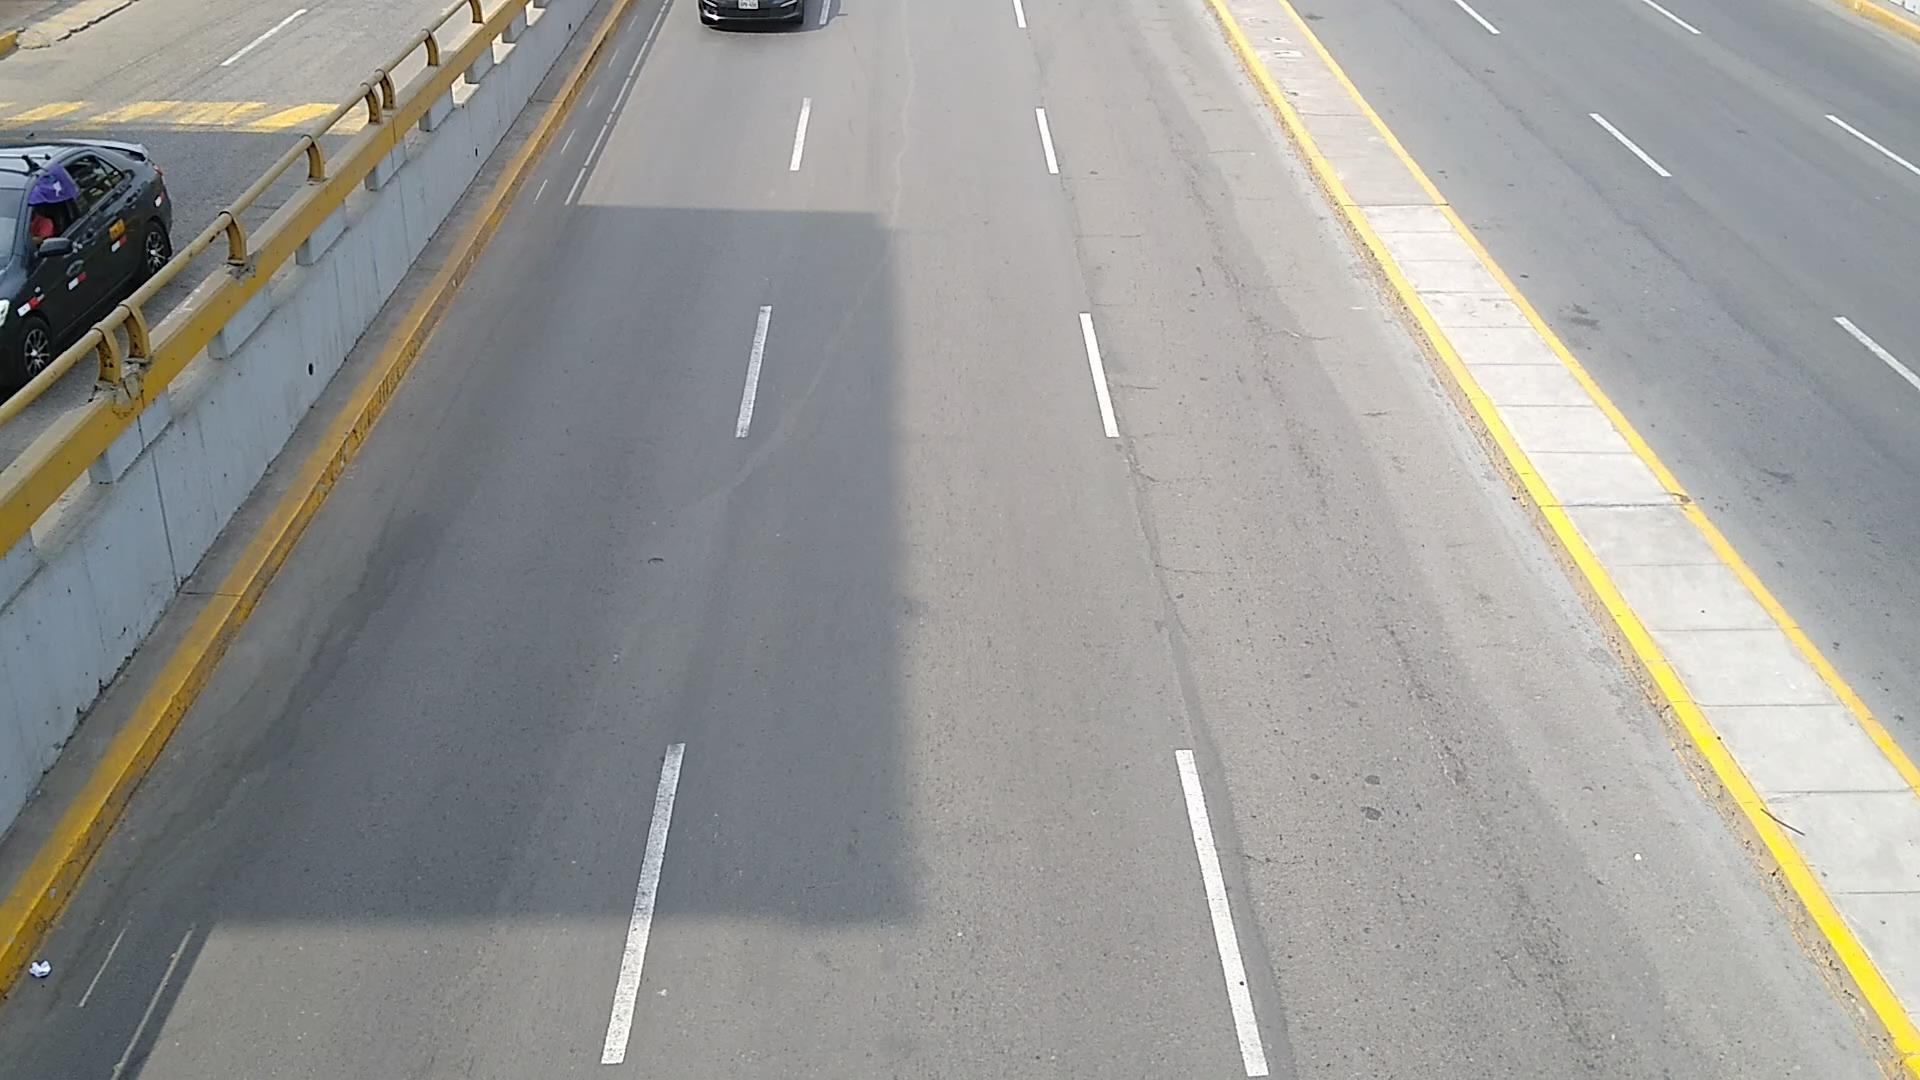car: (0, 139, 172, 384)
